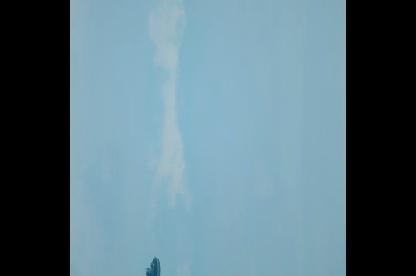Tu95: (138, 254, 161, 273)
